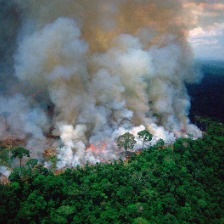incendio: (16, 38, 211, 133), (1, 112, 203, 185)
